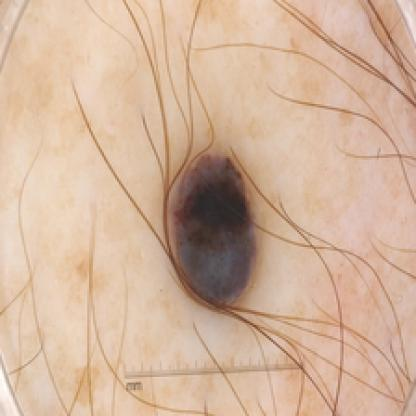malignant: (167, 119, 264, 327)
